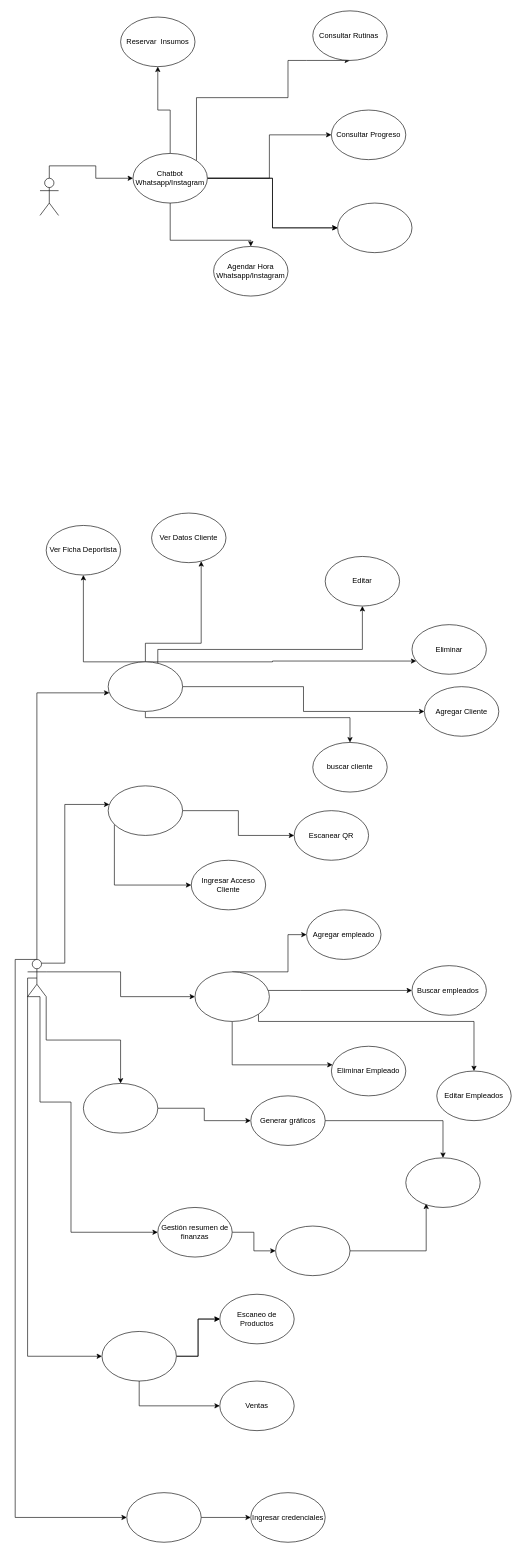
The diagram is 522 pixels wide and 1553 high, and some of its shapes have lost their labels. Here are the shapes that lost their labels. From the top down, the centre of each, then its label:
the point at 49,196: Usuario
the point at 374,227: Revisar Ficha Personal
the point at 145,686: Administrar Clientes
the point at 145,810: Administrar control de acceso
the point at 36,978: ADMIN
the point at 231,996: Gestión de empleados
the point at 120,1108: Gestión análisis de datos
the point at 442,1182: Generar Reporte en Excel
the point at 312,1250: Generar resumen con filtros
the point at 138,1356: Gestión insumos
the point at 163,1517: Iniciar Sesión
